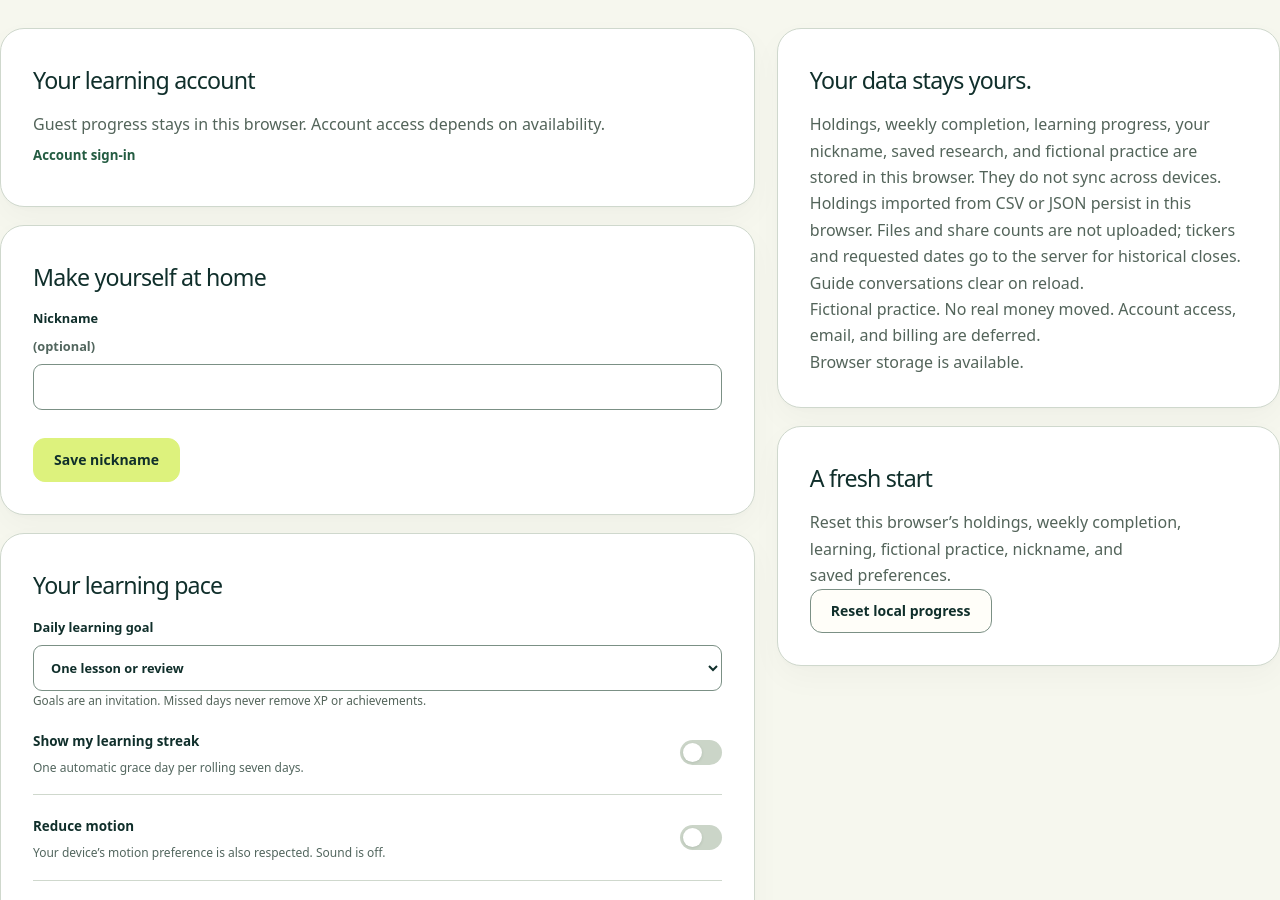
Test: saves Reduce motion without changing learning progress or practice records
Click the switch named "Reduce motion": point(701, 838) [680, 825, 722, 850]
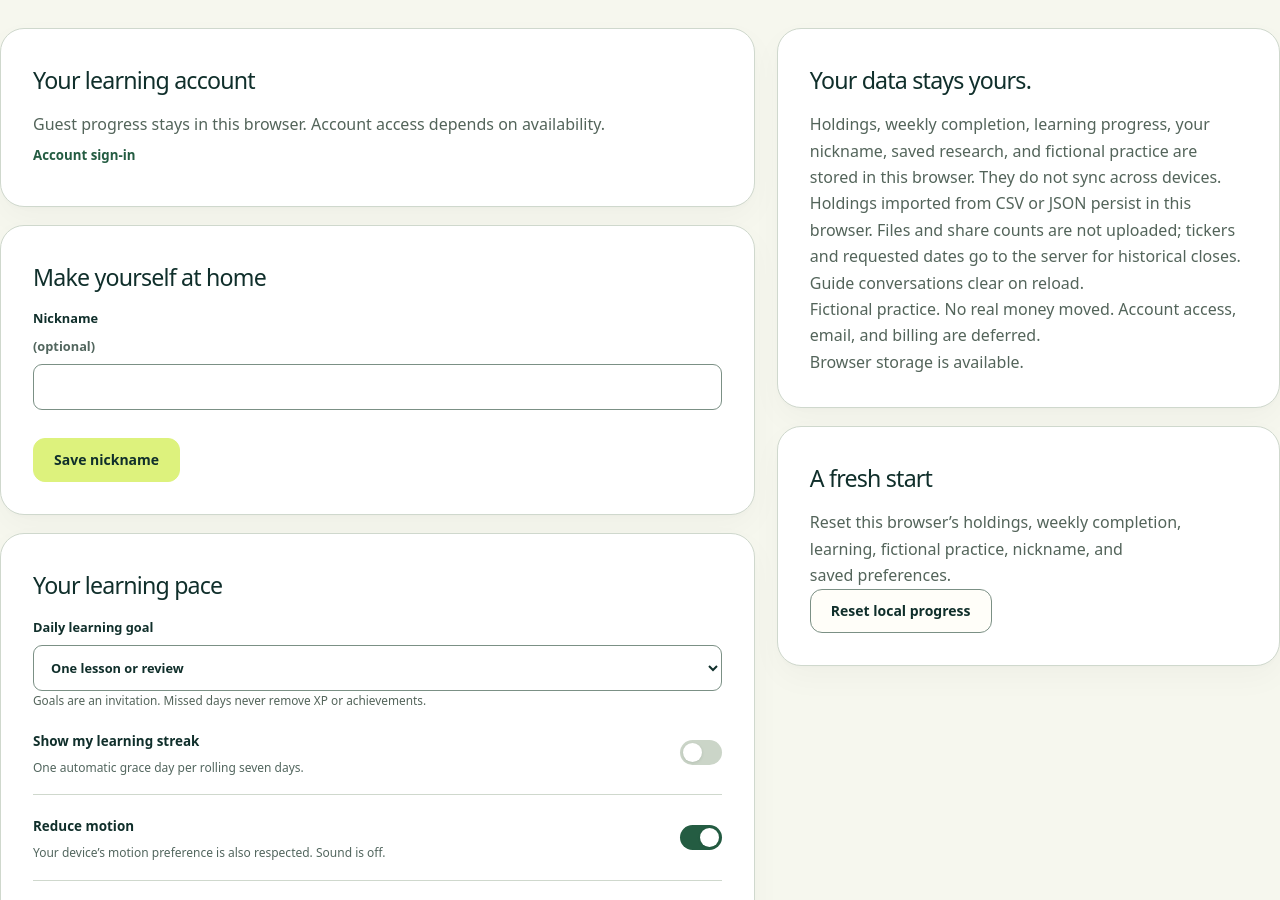
Check: the switch named "Reduce motion" is checked, box [680, 825, 722, 850]
Click the text "Reduce motion": point(84, 826) [33, 818, 134, 836]
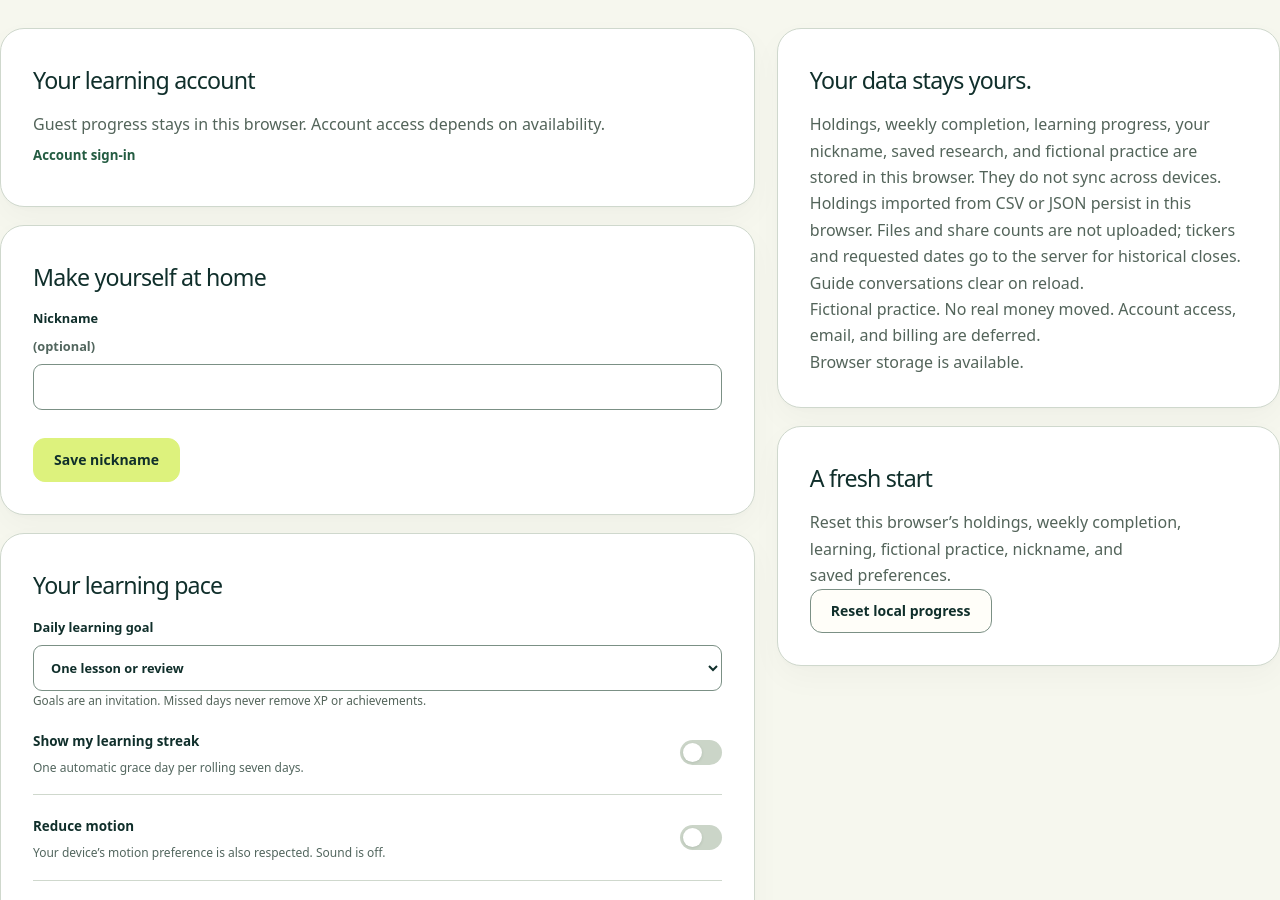
Check: the switch named "Reduce motion" is not checked, box [680, 825, 722, 850]
